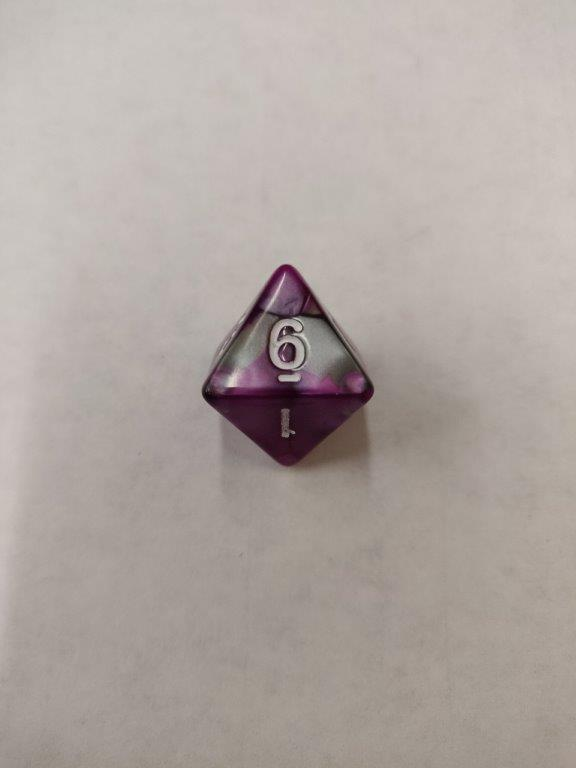d8-6: (198, 263, 372, 469)
